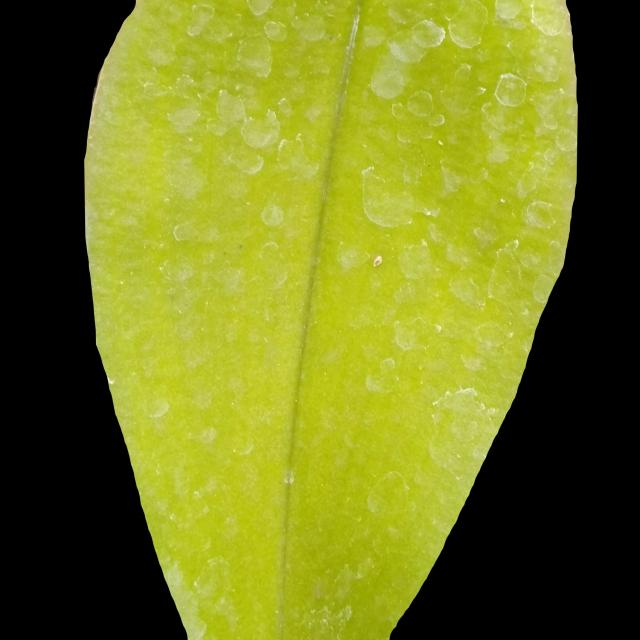mite: (359, 164, 416, 230), (389, 86, 448, 145), (233, 33, 274, 79), (210, 86, 247, 135), (239, 108, 282, 150), (367, 62, 406, 101), (493, 71, 528, 109), (411, 17, 446, 49), (405, 88, 435, 119), (259, 202, 285, 229), (367, 250, 387, 272), (371, 253, 384, 269)
spots: (81, 2, 580, 637)
